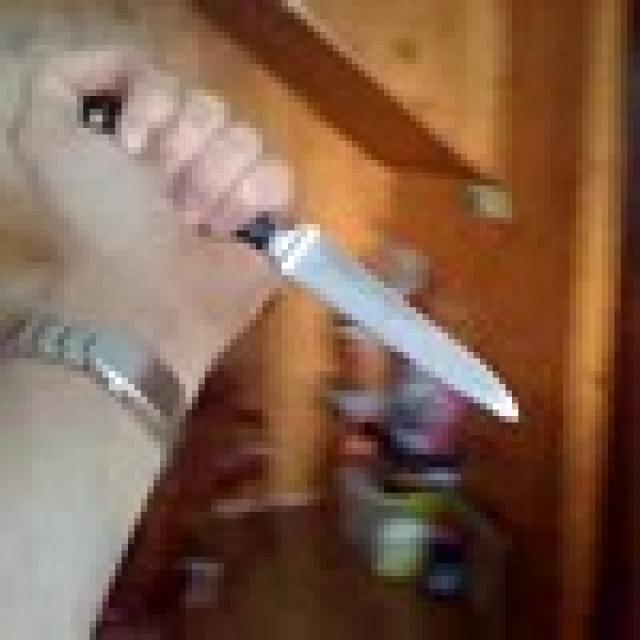Knife: (83, 90, 512, 416)
